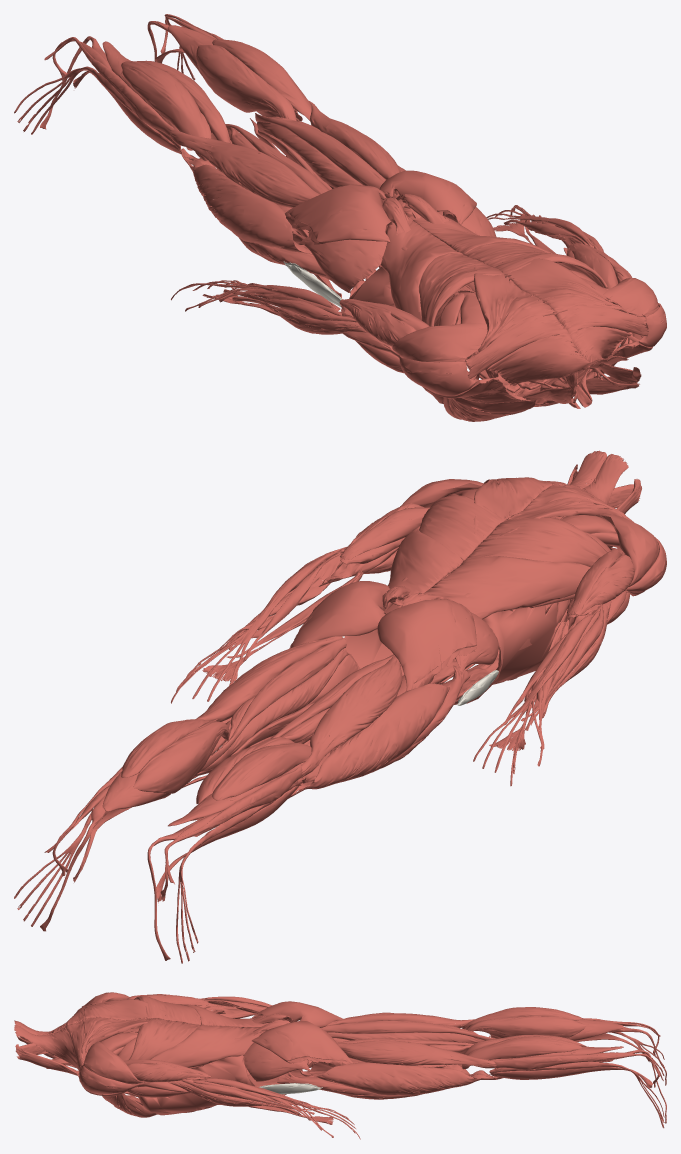
The model's file is muscles.glb.
3 views of the same model, one above another, from view 1: azimuth 30°, elevation 25°; view 2: azimuth 150°, elevation 25°; view 3: azimuth 270°, elevation 25° (orthographic). The views are drawn at different scales.
Visible parts, largest first — view 1: right latissimus dorsi, right gluteus maximus, right vastus lateralis, long head of right biceps femoris, left latissimus dorsi, medial head of left gastrocnemius, descending part of right trapezius, lateral head of right gastrocnemius, ascending part of left trapezius, ascending part of right trapezius, spinal part of right deltoid, right gluteus medius (+35 smaller); view 2: right latissimus dorsi, left latissimus dorsi, right gluteus maximus, right vastus lateralis, long head of right biceps femoris, right external oblique, left gluteus maximus, medial head of left gastrocnemius, lateral head of right gastrocnemius, long head of left biceps femoris, left semimembranosus, left semitendinosus (+28 smaller); view 3: left latissimus dorsi, left vastus lateralis, left gluteus maximus, long head of left biceps femoris, left external oblique, medial head of right gastrocnemius, lateral head of left gastrocnemius, right latissimus dorsi, right semitendinosus, left gluteus medius, spinal part of left deltoid, left fibularis longus (+41 smaller).
Part boxes in pixels (x1,y1,x2,y2): right latissimus dorsi: (380,214,505,326); right gluteus maximus: (285,184,392,244); right vastus lateralis: (181,149,312,254); long head of right biceps femoris: (169,130,319,207); left latissimus dorsi: (403,206,607,288); medial head of left gastrocnemius: (196,45,296,120); descending part of right trapezius: (487,333,606,385); lateral head of right gastrocnemius: (121,61,211,160); ascending part of left trapezius: (480,258,628,315); ascending part of right trapezius: (474,261,556,351); spinal part of right deltoid: (392,322,489,362); right gluteus medius: (298,236,387,292); right latissimus dorsi: (402,517,607,619); left latissimus dorsi: (387,495,505,606); right gluteus maximus: (377,599,476,691); right vastus lateralis: (288,683,449,798); long head of right biceps femoris: (301,655,402,777); right external oblique: (454,602,572,704); left gluteus maximus: (289,581,389,648); medial head of left gastrocnemius: (133,721,229,793); lateral head of right gastrocnemius: (212,743,311,800); long head of left biceps femoris: (195,636,342,721); left semimembranosus: (201,648,348,771); left semitendinosus: (198,638,346,772); left latissimus dorsi: (128,1018,264,1068); left vastus lateralis: (311,1062,502,1095); left gluteus maximus: (252,1021,353,1067); long head of left biceps femoris: (337,1040,496,1068); left external oblique: (139,1055,286,1115); medial head of right gastrocnemius: (466,1016,586,1038); lateral head of left gastrocnemius: (462,1036,582,1069); right latissimus dorsi: (134,995,268,1027); right semitendinosus: (321,1020,495,1040); left gluteus medius: (244,1042,310,1081); spinal part of left deltoid: (83,1041,145,1084); left fibularis longus: (494,1053,658,1087).
Bounding box in the file's own units: 639 × 248 × 1577.
